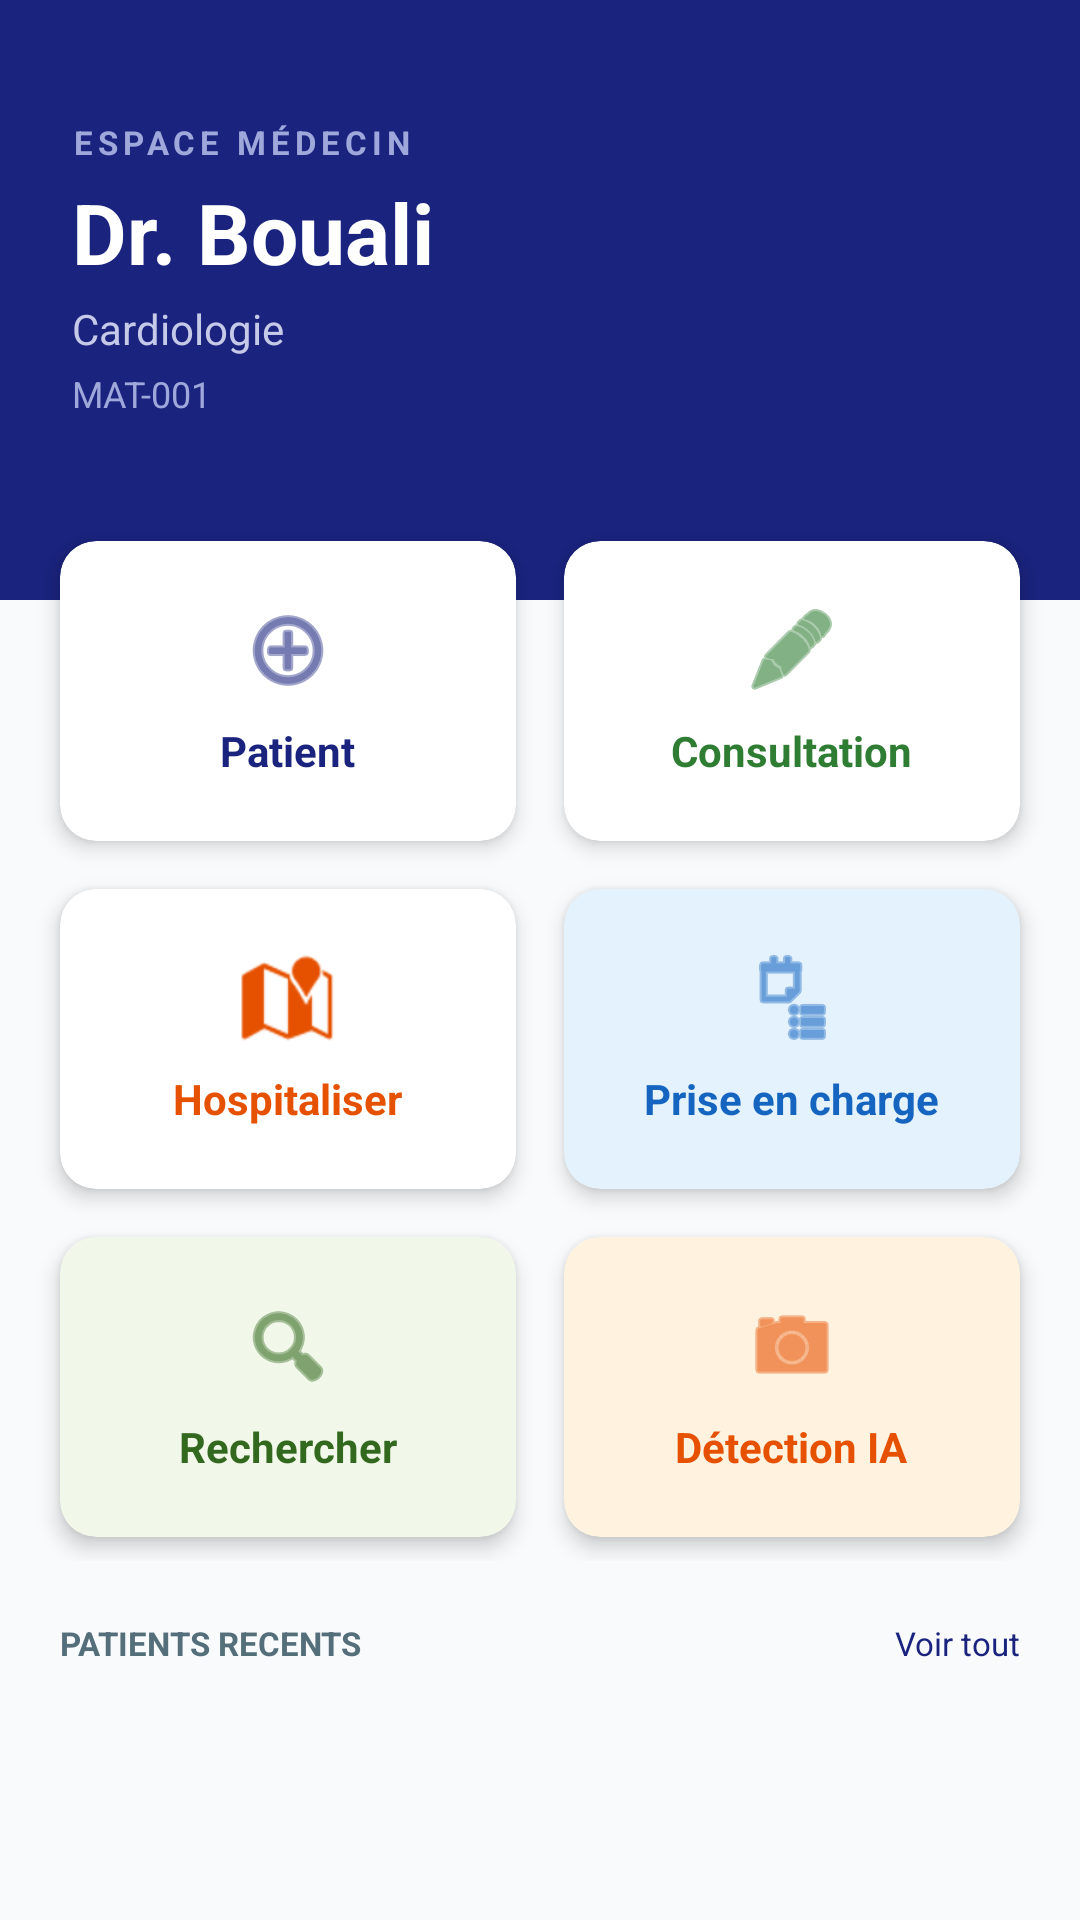

Where to tap for icons on this 1080*1920 app screen, as point (x, y):
add: point (288, 650)
agenda: point (792, 997)
camera: point (792, 1344)
edit: point (791, 649)
map: point (287, 997)
search: point (288, 1346)
